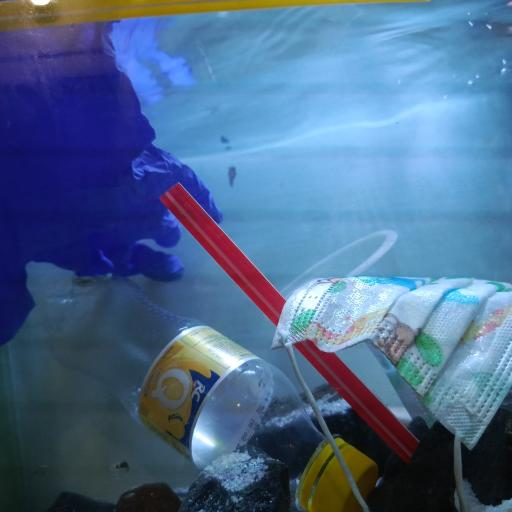bottle_cap: (318, 444, 376, 512)
glove: (2, 25, 221, 339)
mask: (275, 277, 511, 464)
plastic_bottle: (33, 268, 377, 512)
plastic_cup: (282, 229, 413, 279)
plastic_straw: (164, 182, 419, 467), (0, 0, 421, 33)
